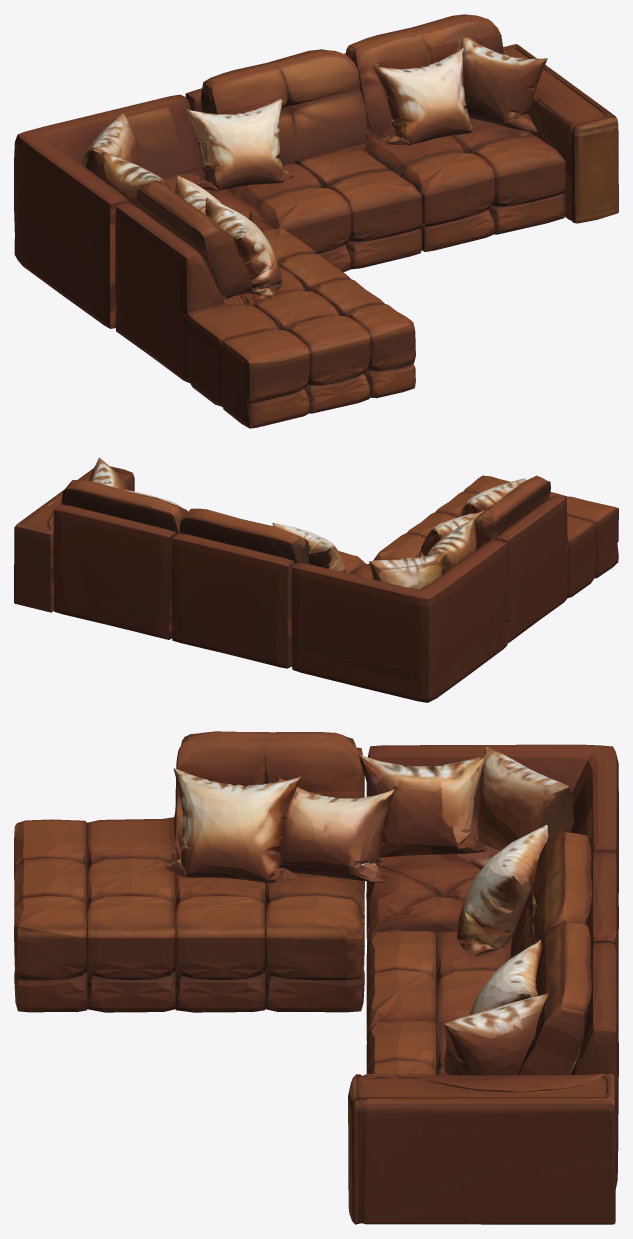
Rendered from edited_mesh.glb.
3 renders of one model, top to bottom at view 1: azimuth 30°, elevation 25°; view 2: azimuth 150°, elevation 25°; view 3: azimuth 270°, elevation 25°, orthographic. The views are drawn at different scales.
Visible parts, largest first — view 1: solid_001_wire; view 2: solid_001_wire; view 3: solid_001_wire.
Boxes of the visible parts, x1,y1,x2,y2 form: solid_001_wire: (14,14,618,428); solid_001_wire: (14,457,618,702); solid_001_wire: (14,731,618,1224).
Size of the model in its own units: 2 by 0.5776 by 1.61.
Materials: 1 (1 with a texture image).
